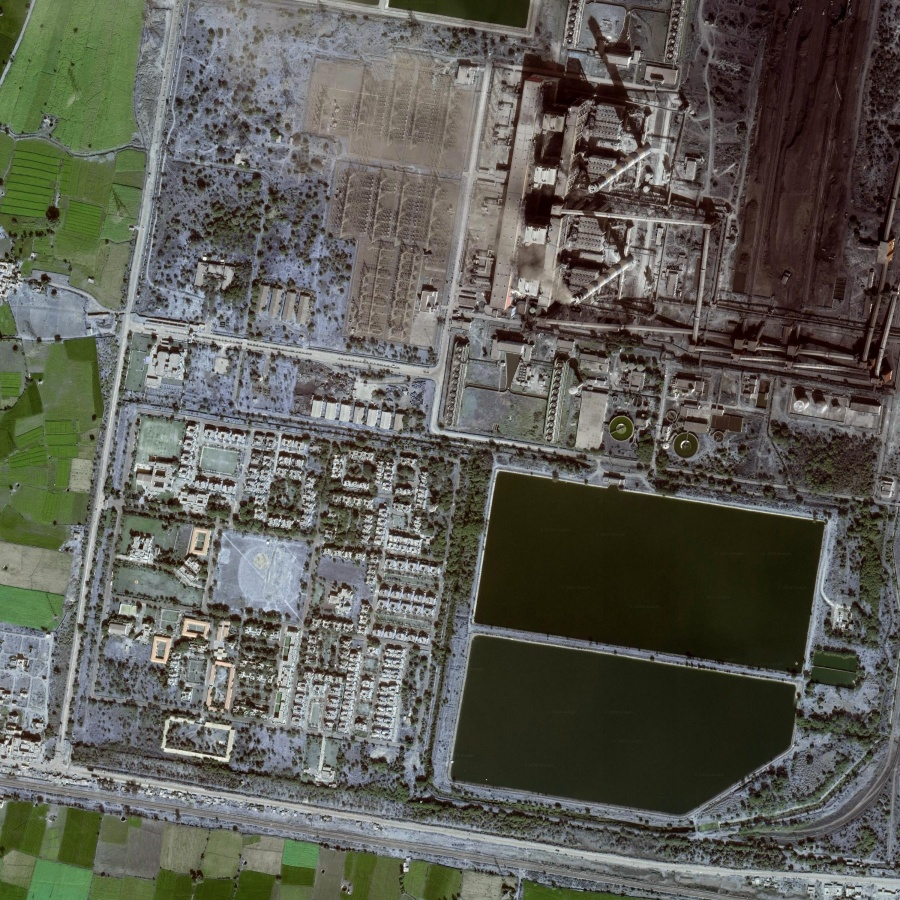PowerPlant: (422, 439, 842, 845)
